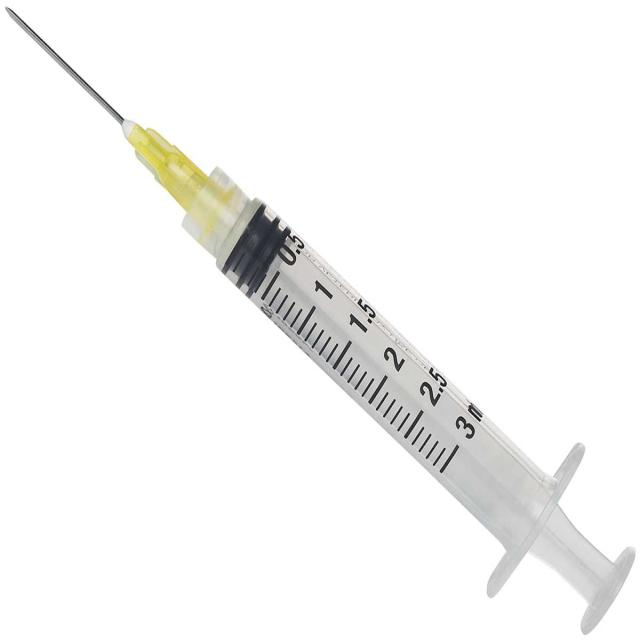syringe: (4, 5, 634, 634)
